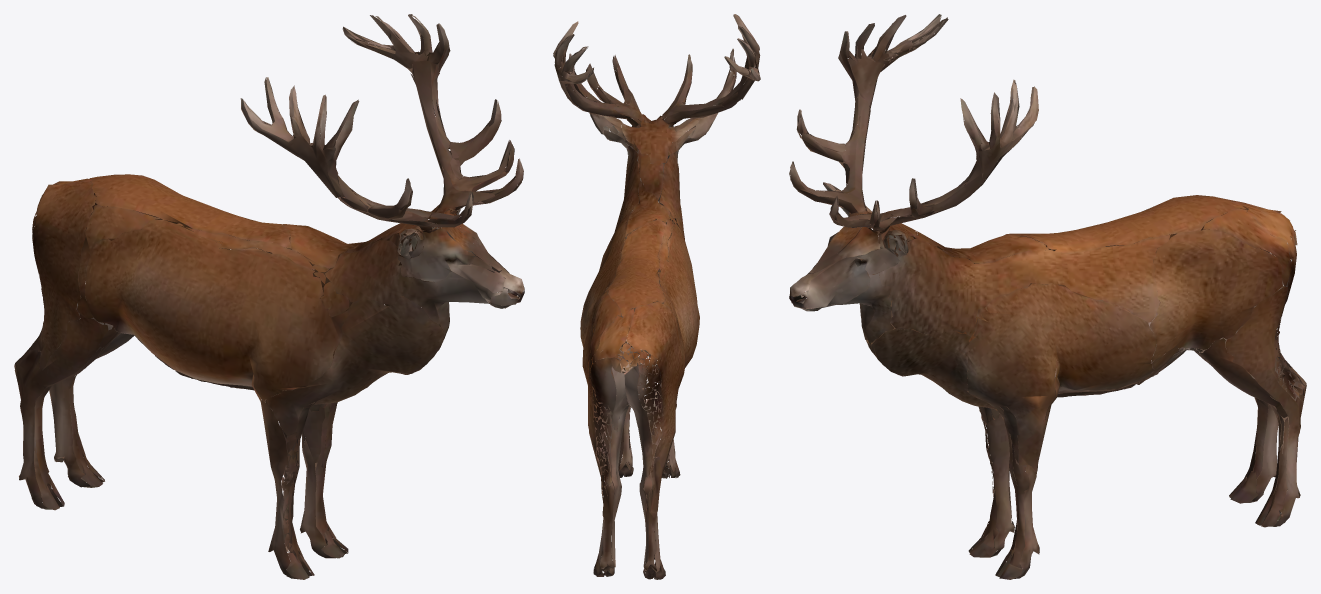
File: obs_deer.glb
3 views of the same model, side by side, from view 1: azimuth 30°, elevation 25°; view 2: azimuth 150°, elevation 25°; view 3: azimuth 270°, elevation 25° (orthographic). The views are drawn at different scales.
Parts seen in each view (by area): view 1: material; view 2: material; view 3: material.
Part boxes in pixels (<box>): material: <box>14,14,524,579</box>; material: <box>553,14,760,579</box>; material: <box>789,14,1306,579</box>.
Bounding box in the file's own units: 0.5209 × 0.8861 × 0.8041.
1 material, 1 textured.
